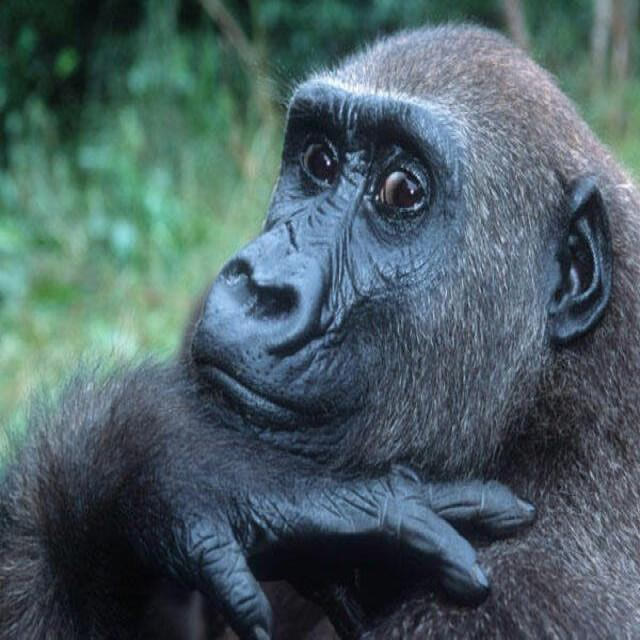Gorilla: (19, 25, 640, 630)
